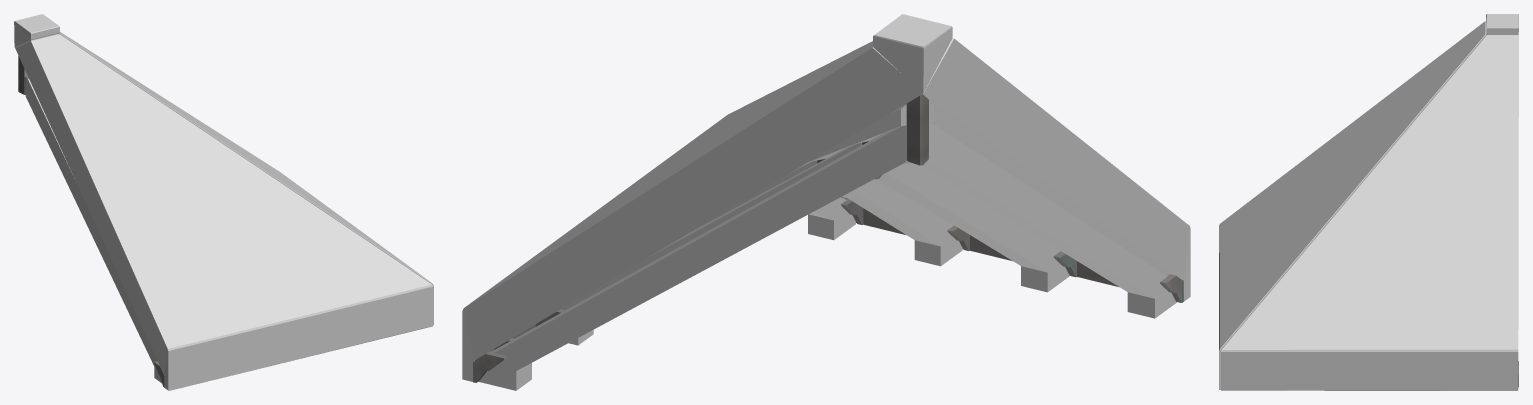
The model's file is SM_TriangleStairsCorner_Glass_cbf75d.glb.
3 renders of one model, left to right at view 1: azimuth 30°, elevation 25°; view 2: azimuth 150°, elevation 25°; view 3: azimuth 270°, elevation 25°, orthographic. The views are drawn at different scales.
Size of the model in its own units: 3.97 by 3.66 by 3.97.
2 materials, 1 textured.
